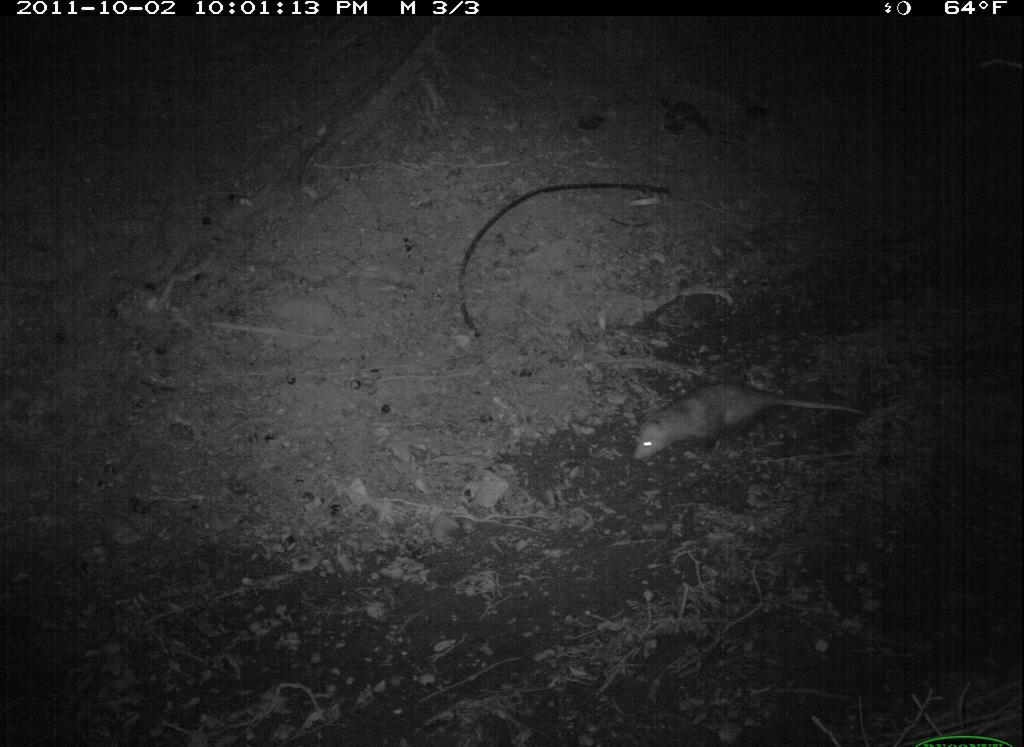opossum: (625, 372, 882, 470)
